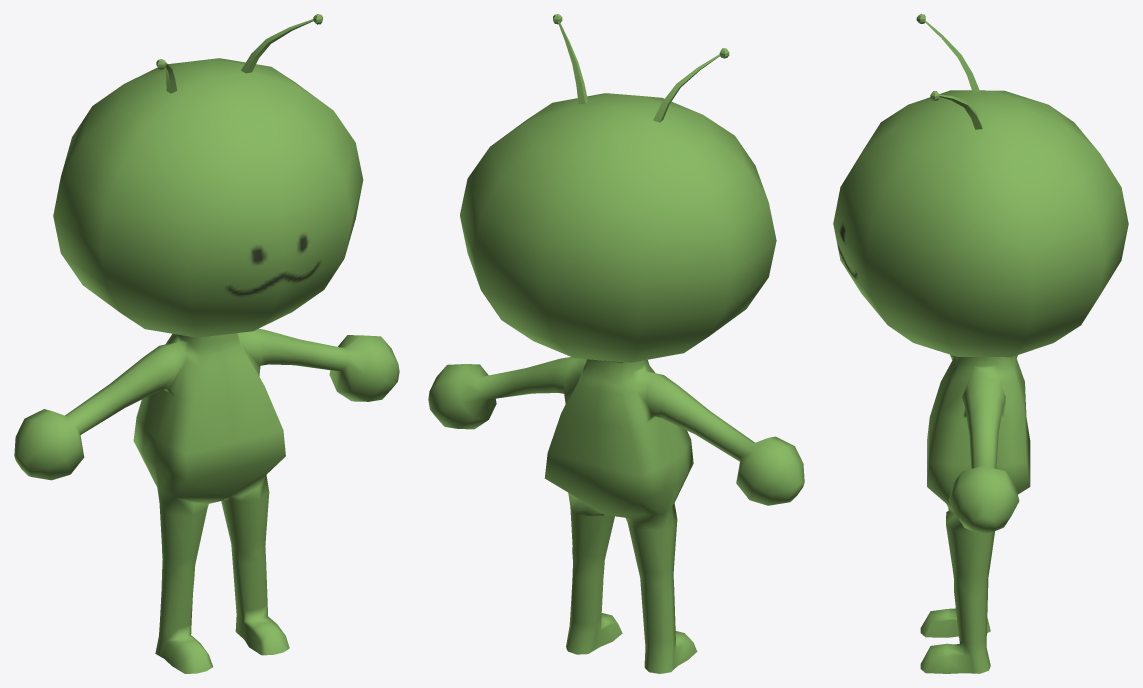
Rendered from zoomy.fbx.
The picture shows the model from 3 angles, left to right: view 1: azimuth 30°, elevation 25°; view 2: azimuth 150°, elevation 25°; view 3: azimuth 270°, elevation 25°; orthographic projection. The views are drawn at different scales.
Visible parts, largest first — view 1: zoomy; view 2: zoomy; view 3: zoomy.
Part boxes in pixels (box(x1,y1,x2,y2)): zoomy: box(14, 14, 399, 673); zoomy: box(428, 14, 804, 673); zoomy: box(833, 14, 1128, 673).
Size of the model in its own units: 80.07 by 126 by 56.35.
